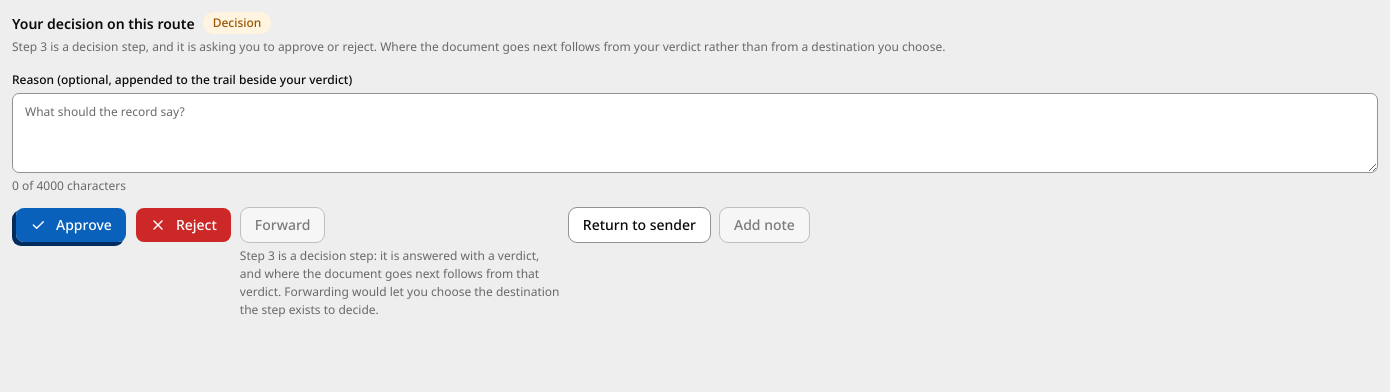
Scenario: rejecting › says the document ENDS HERE when the route draws no rejection path
This screenshot has width=1390, height=392.
What coordinates should you click on to do the following:
click the button "Reject"
I would click on:
 (183, 225)
Its box is [135, 207, 232, 243].
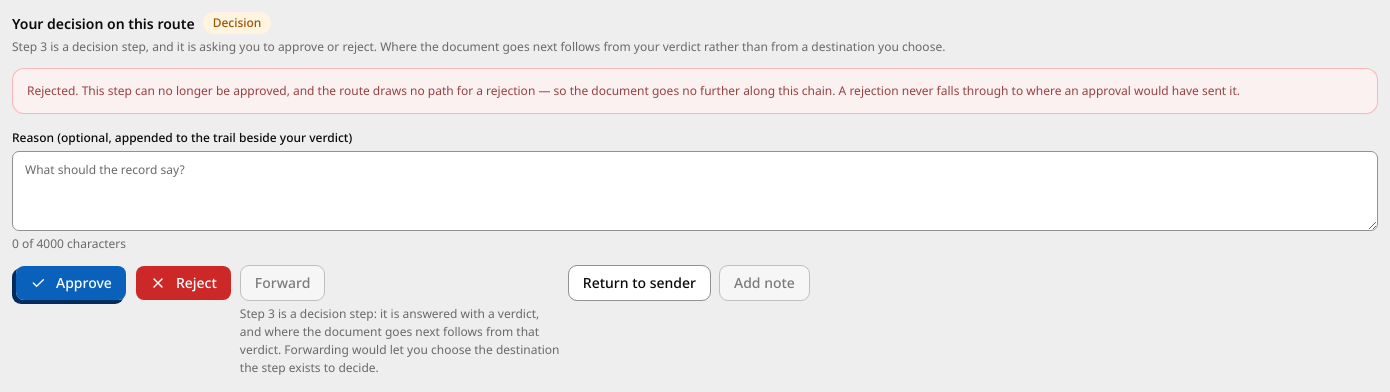
Expected: the message is shown, [12, 68, 1378, 114]
Expected: the message shows "goes no further along this chain", [27, 82, 1240, 99]
Expected: the message shows "never falls through to where an approval would have sent it", [27, 82, 1240, 99]
